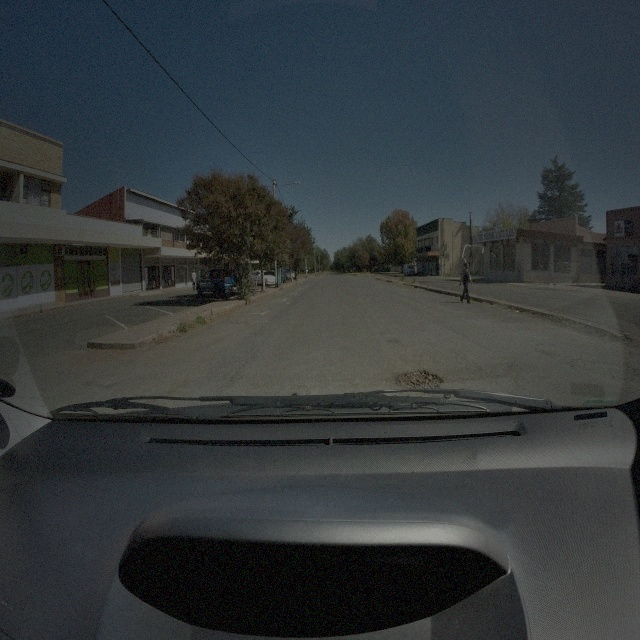pothole: (396, 360, 446, 392)
